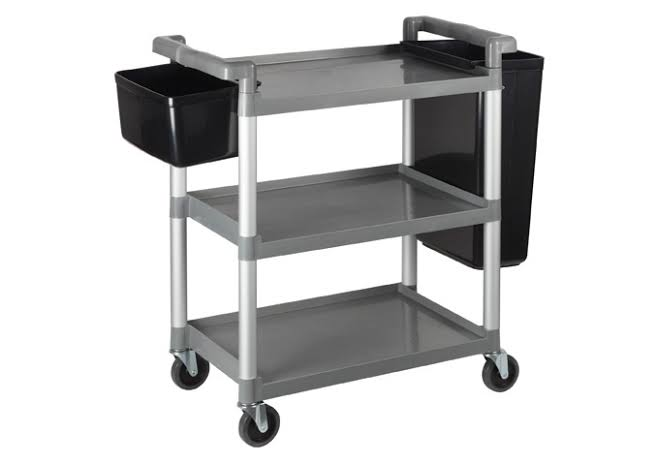Carts: (114, 15, 544, 447)
